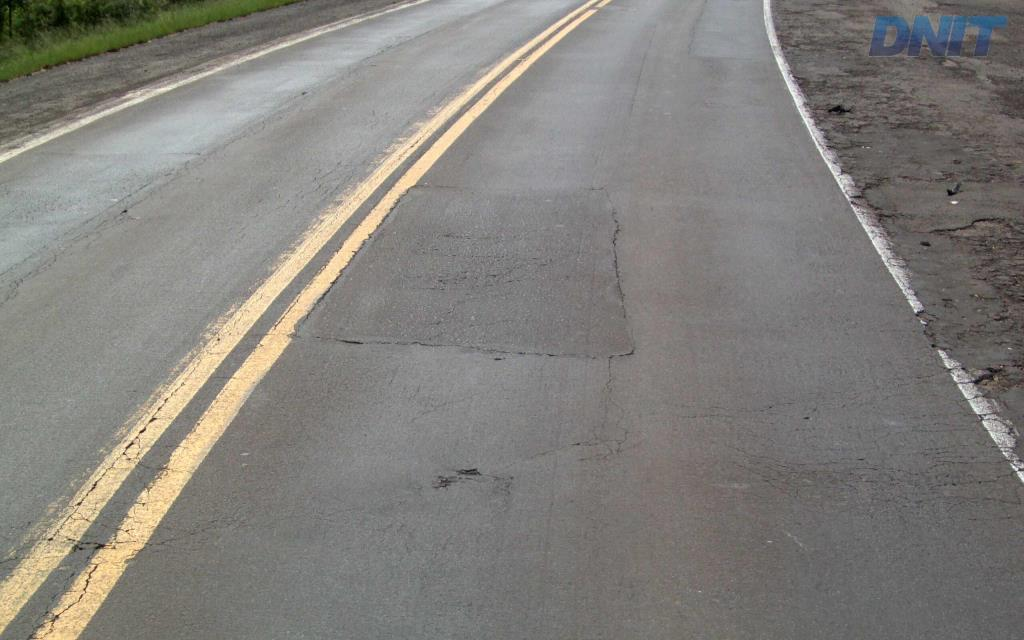crack: (942, 492, 1016, 523), (925, 470, 1016, 494), (432, 467, 482, 490)
